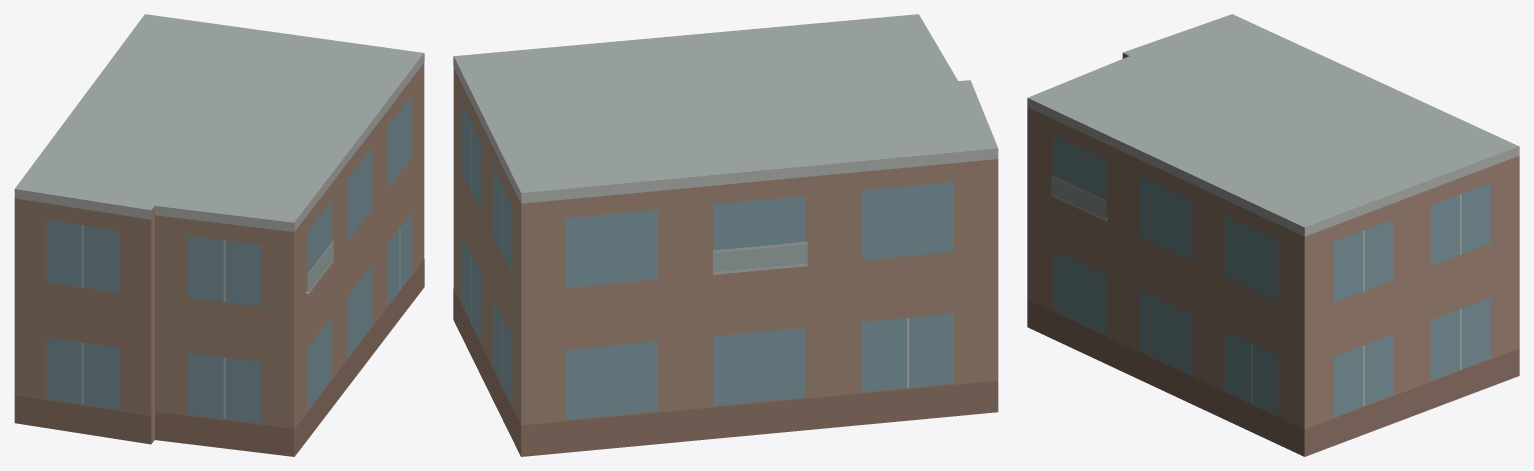
The model's file is survey-upis-32654312.glb.
3 views of the same model, side by side, from view 1: azimuth 30°, elevation 25°; view 2: azimuth 150°, elevation 25°; view 3: azimuth 270°, elevation 25° (orthographic). The views are drawn at different scales.
Visible parts, largest first — view 1: survey-upis-32654312.tmp; view 2: survey-upis-32654312.tmp; view 3: survey-upis-32654312.tmp.
Part boxes in pixels (x1=…): survey-upis-32654312.tmp: x1=14, y1=14, x2=424, y2=456; survey-upis-32654312.tmp: x1=453, y1=14, x2=998, y2=456; survey-upis-32654312.tmp: x1=1027, y1=14, x2=1519, y2=456.
Size of the model in its own units: 12.19 by 6.1 by 11.88.
